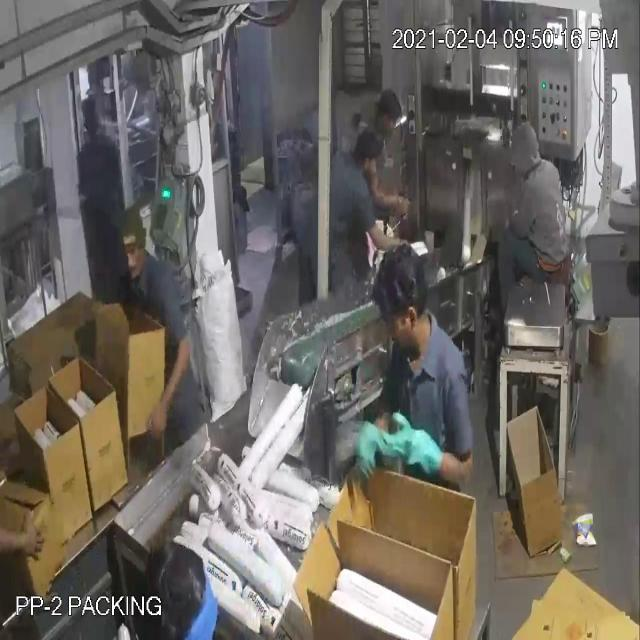gloves: (383, 387, 449, 505), (348, 407, 386, 490)
no-gloves: (136, 322, 195, 460), (1, 506, 59, 568), (364, 166, 414, 220), (365, 210, 413, 262)
